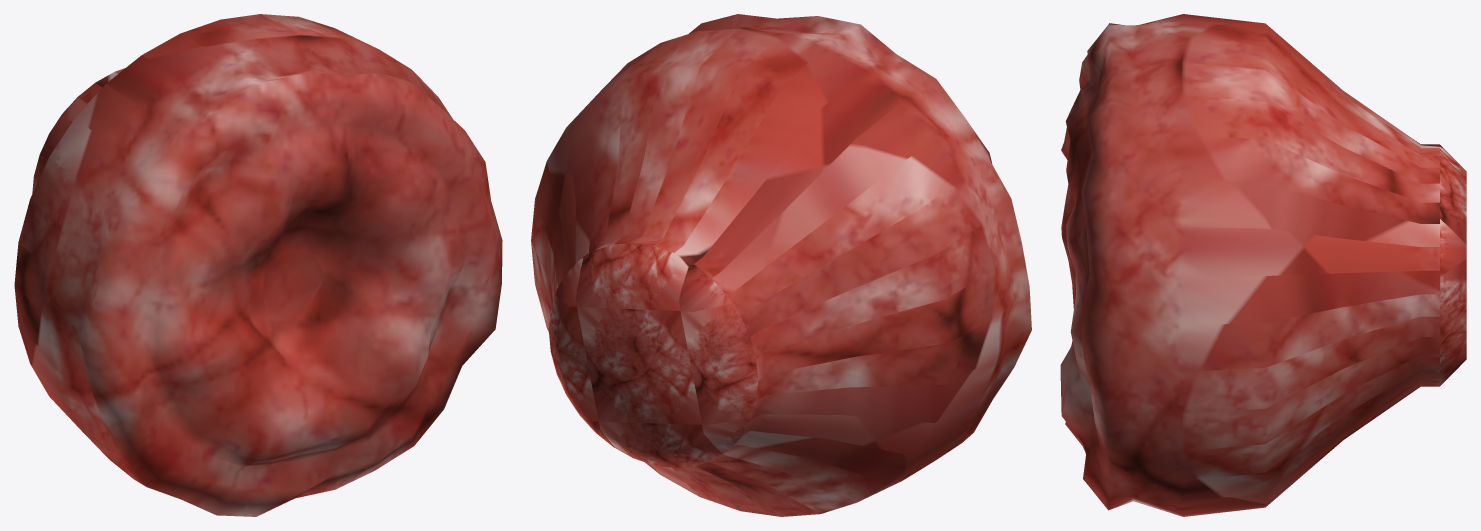
File: BULLET_HOLE.glb
3 views of the same model, side by side, from view 1: azimuth 30°, elevation 25°; view 2: azimuth 150°, elevation 25°; view 3: azimuth 270°, elevation 25° (orthographic).
Parts seen in each view (by area): view 1: Circle; view 2: Circle; view 3: Circle.
Part boxes in pixels (x1,y1,x2,y2): Circle: (14,14,502,516); Circle: (531,14,1031,516); Circle: (1060,14,1466,516).
Bounding box in the file's own units: 0.2 × 0.2 × 0.1613.
Materials: 1 (1 with a texture image).
